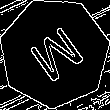M_SE: (21, 19, 88, 87)
